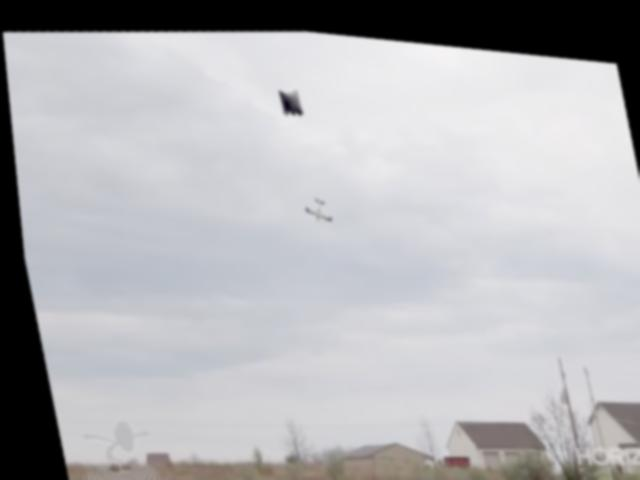uav: (294, 186, 333, 223)
